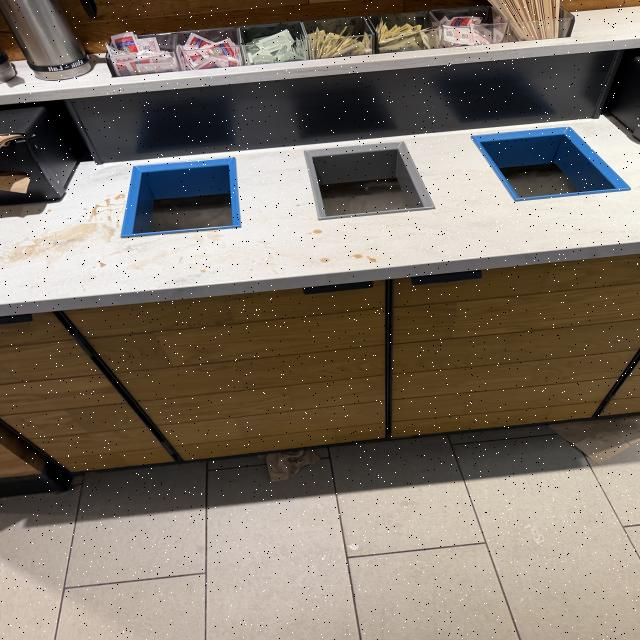Dustbin: (0, 90, 640, 486)
